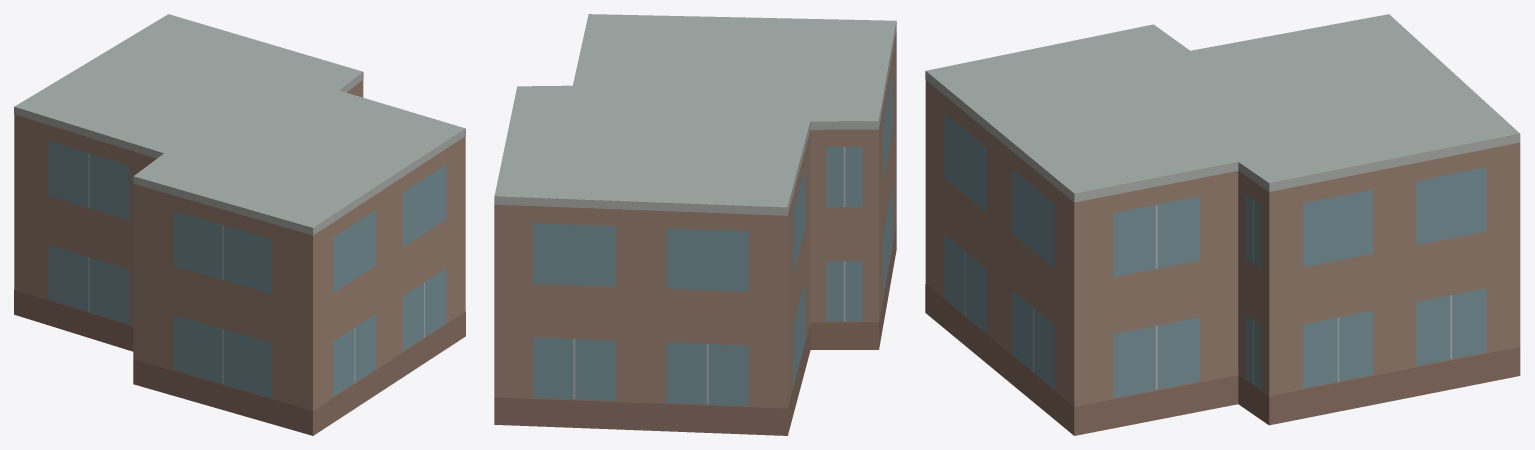
The model's file is survey-upis-32491498.glb.
The picture shows the model from 3 angles, left to right: view 1: azimuth 30°, elevation 25°; view 2: azimuth 150°, elevation 25°; view 3: azimuth 270°, elevation 25°; orthographic projection. The views are drawn at different scales.
Visible parts, largest first — view 1: survey-upis-32491498.tmp; view 2: survey-upis-32491498.tmp; view 3: survey-upis-32491498.tmp.
Boxes of the visible parts, box(x1,y1,x2,y2) form: survey-upis-32491498.tmp: box(14, 14, 465, 435); survey-upis-32491498.tmp: box(494, 14, 896, 435); survey-upis-32491498.tmp: box(925, 14, 1520, 435).
Bounding box in the file's own units: 10.68 × 6.7 × 14.93.
